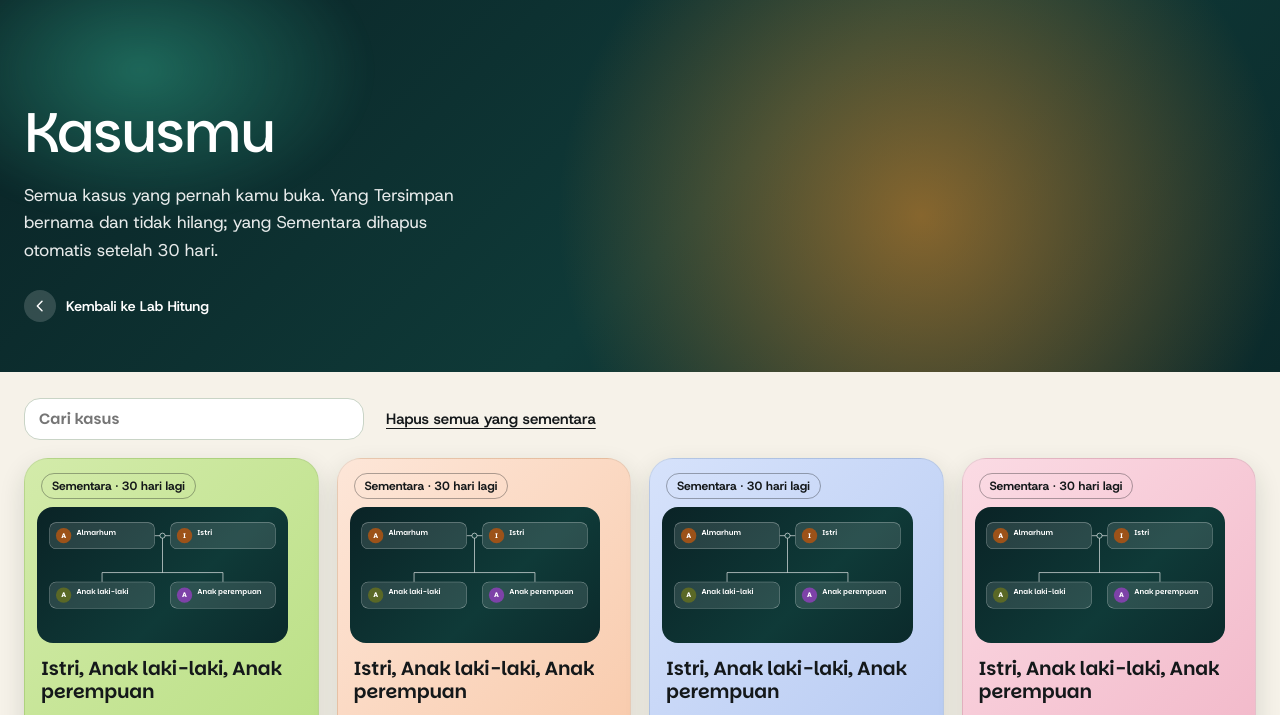
Test case: halaman penuh: cari muncul bila lebih dari 8 kasus dan menyaring
This screenshot has width=1280, height=715.
Type "zzzz" into the search field labelled "Cari kasus" at (194, 419), box [24, 398, 364, 440]
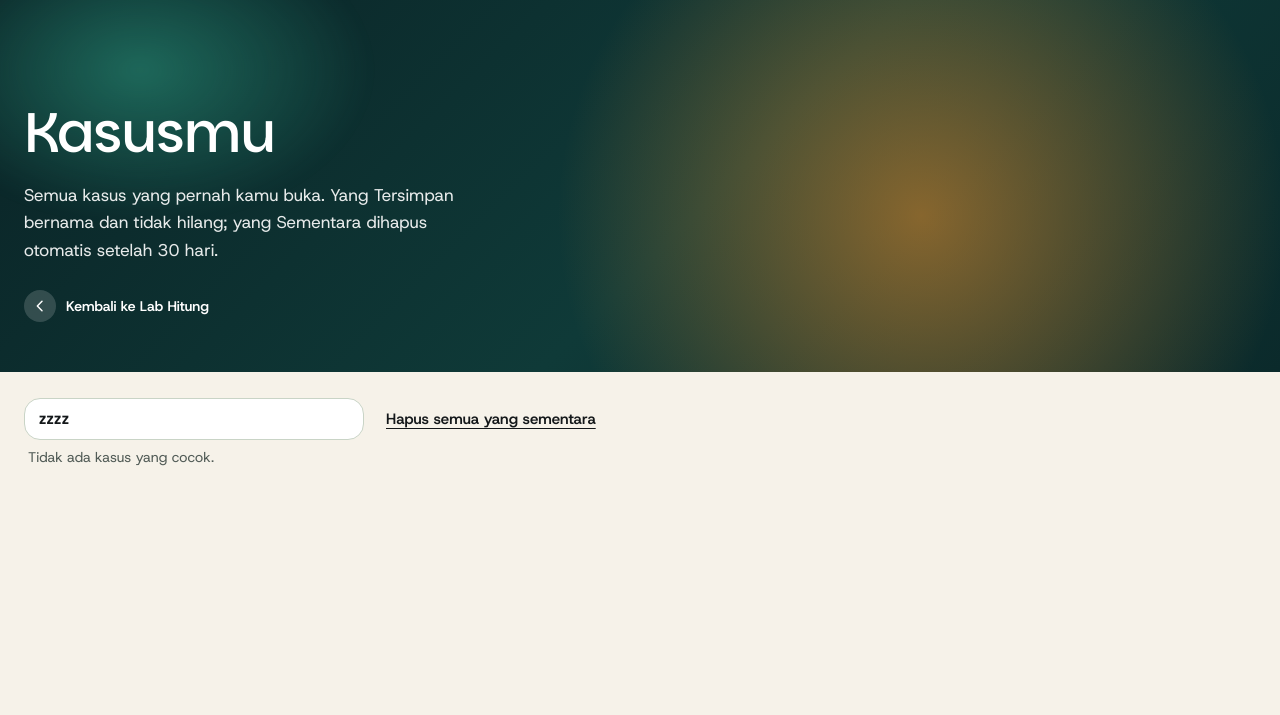
Check: the text "Tidak ada kasus yang cocok." is shown, box [28, 448, 214, 466]
